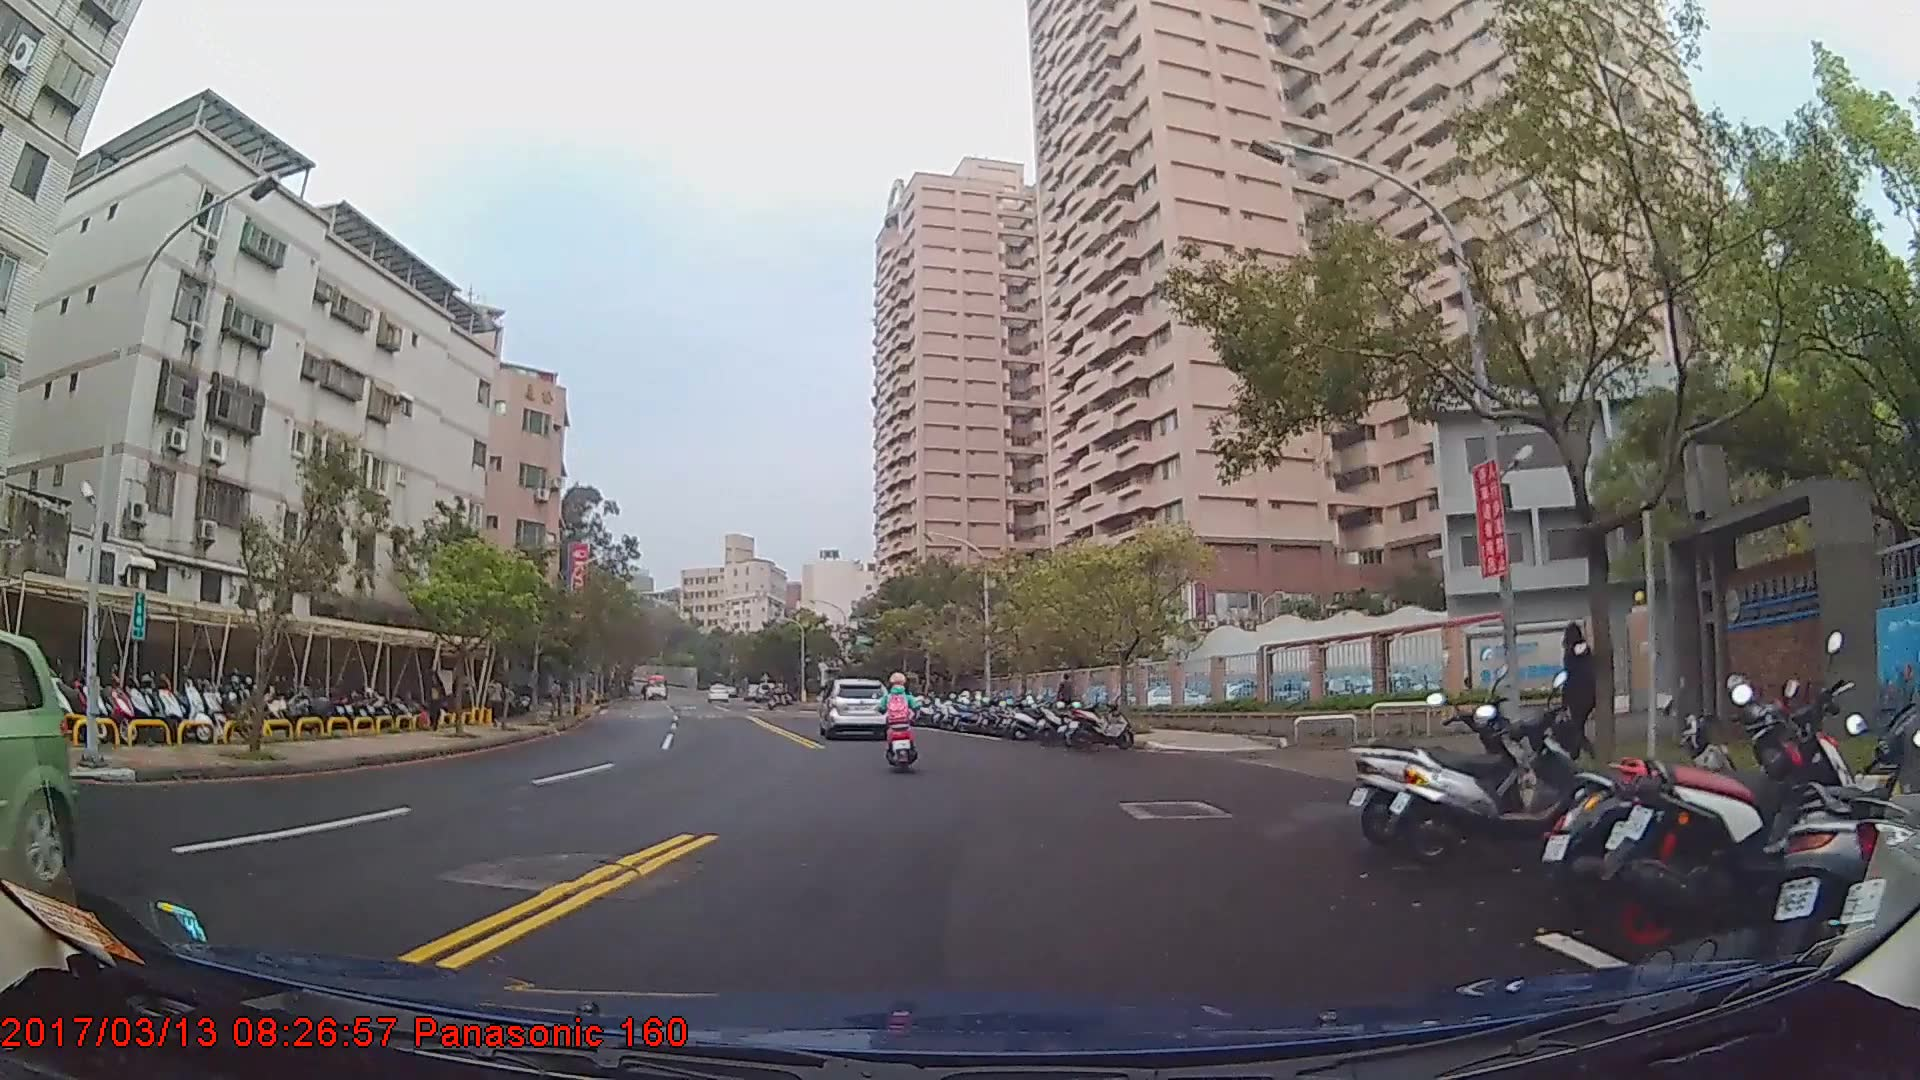pedestrian: (1559, 621, 1602, 770), (421, 670, 447, 729), (1057, 673, 1077, 730)
rider: (881, 669, 924, 766)
vehicle: (817, 672, 892, 737), (642, 667, 671, 698)
